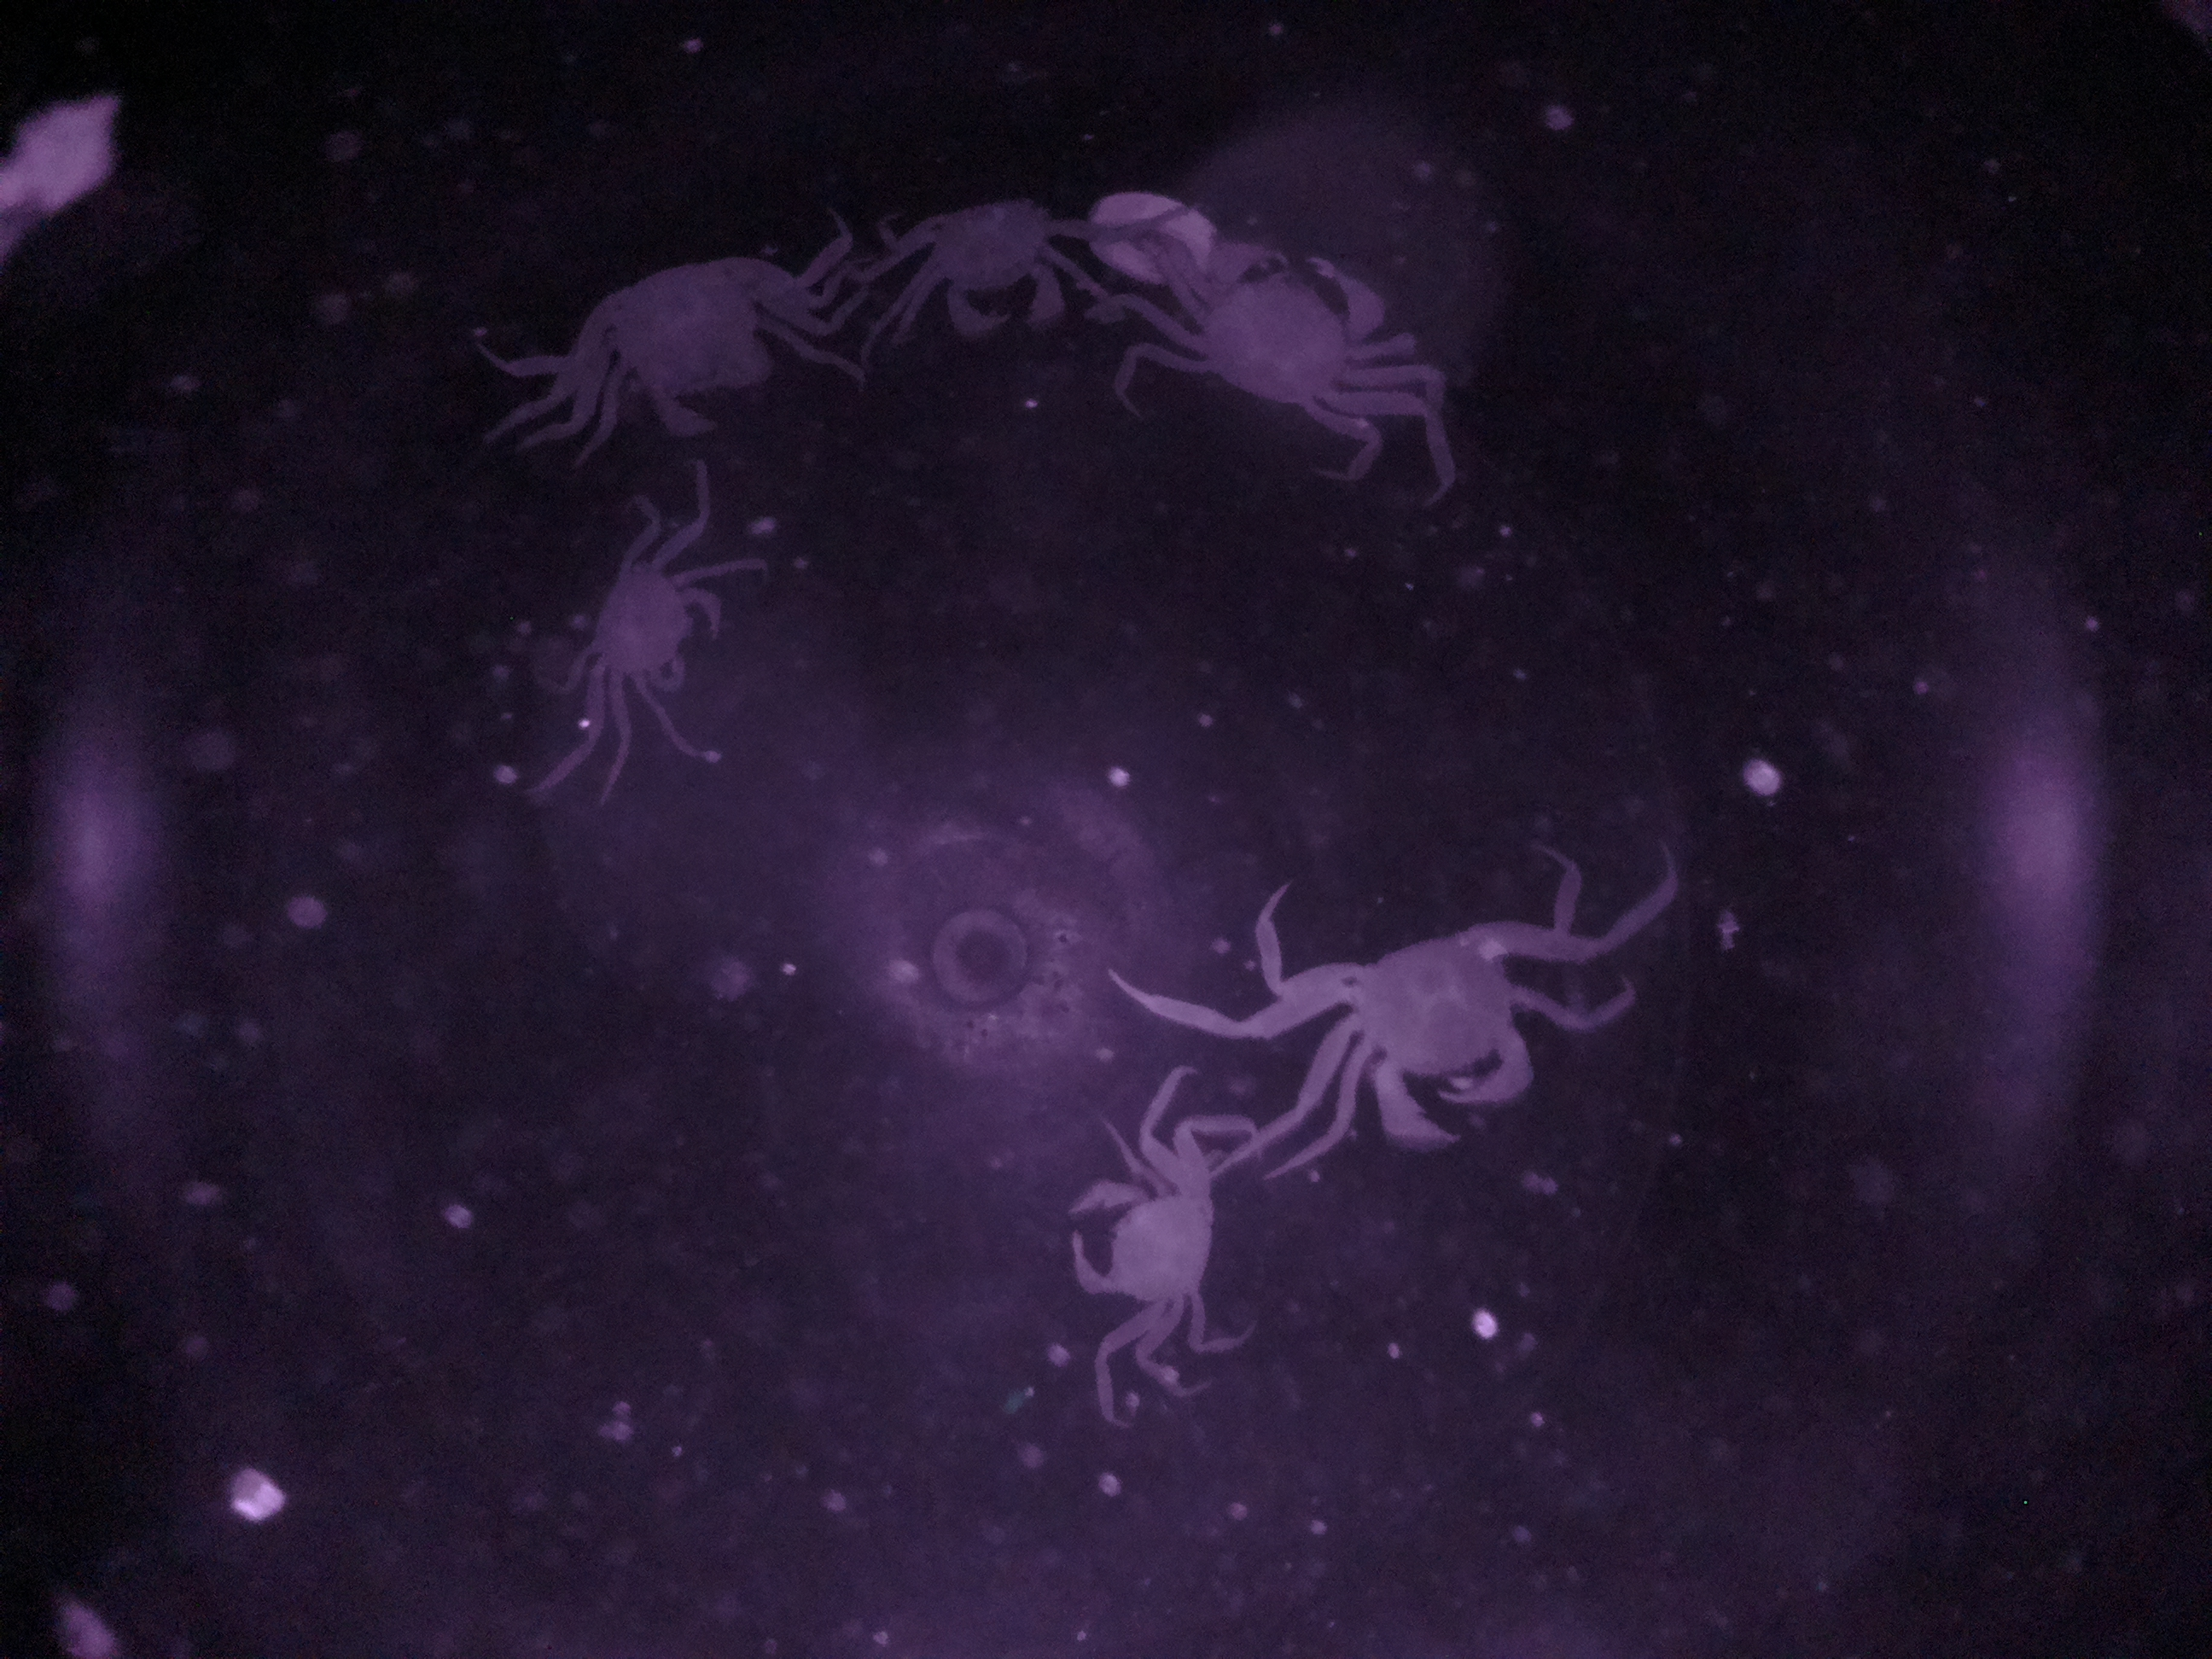Crab: (1251, 906, 1583, 1168), (543, 240, 840, 451), (1139, 223, 1428, 434), (1049, 1121, 1252, 1371), (888, 179, 1104, 366), (573, 516, 738, 742)
